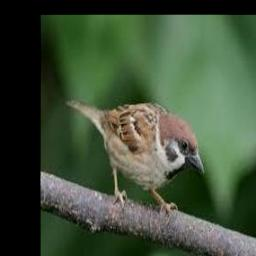Sparrow: (65, 99, 204, 214)
